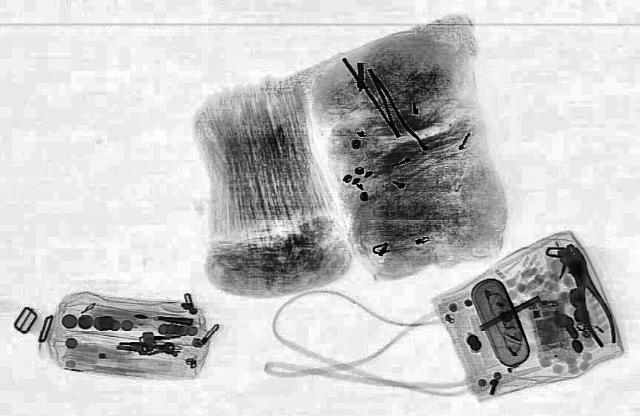Pliers: (554, 242, 624, 348)
